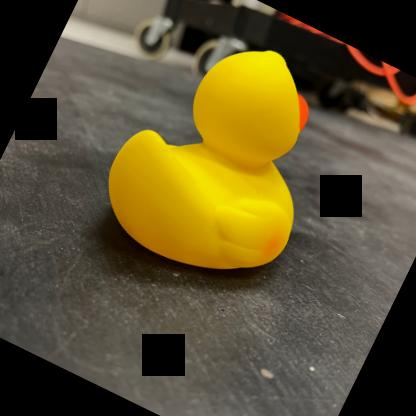duck: (78, 4, 366, 311)
